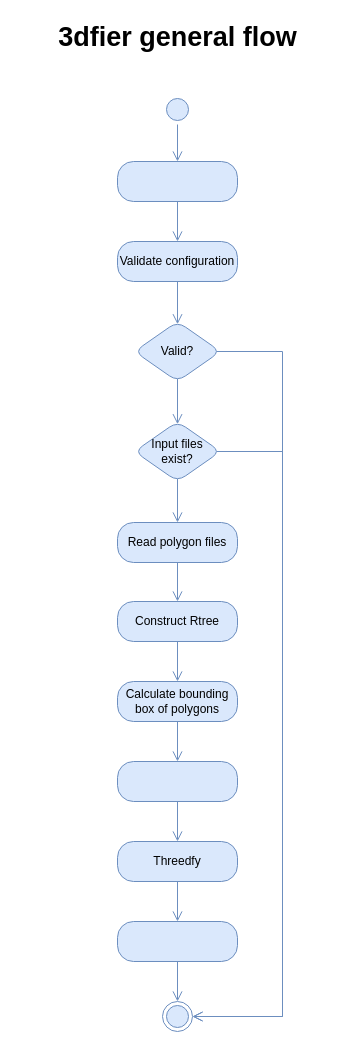
Some shapes in this 353 by 1049 pixel diagram are drawn without their labels. The centre of each missing label's shape, as x and y in pixels:
"Read configuration" goes at [177,181].
"Read point files" goes at [177,781].
"Save to storage" goes at [177,941].
